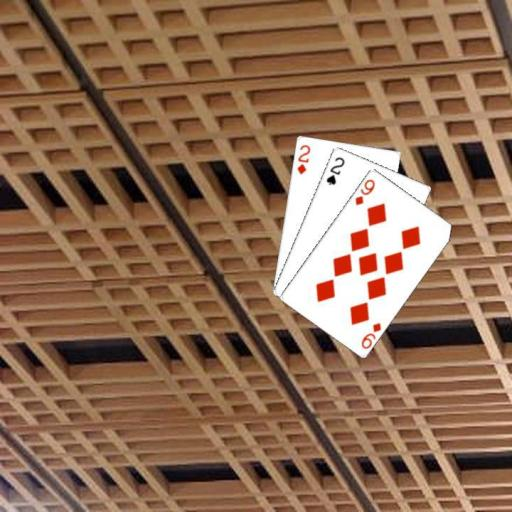2D: (294, 142, 312, 176)
2S: (323, 154, 346, 186)
9D: (358, 319, 383, 350), (352, 176, 376, 206)
